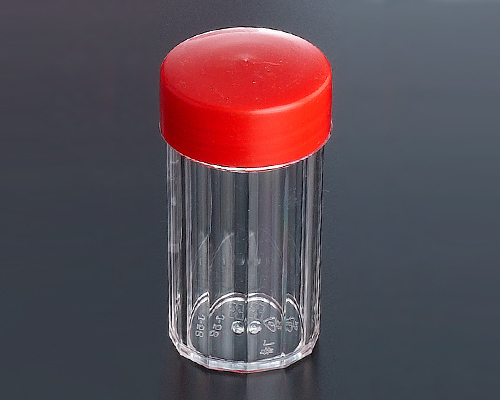medicinejar: (158, 25, 336, 380)
